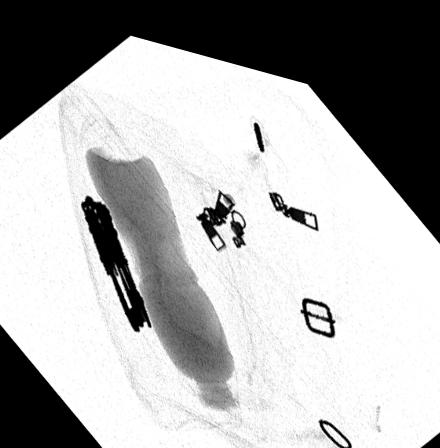HandCuffs: (80, 188, 150, 323)
